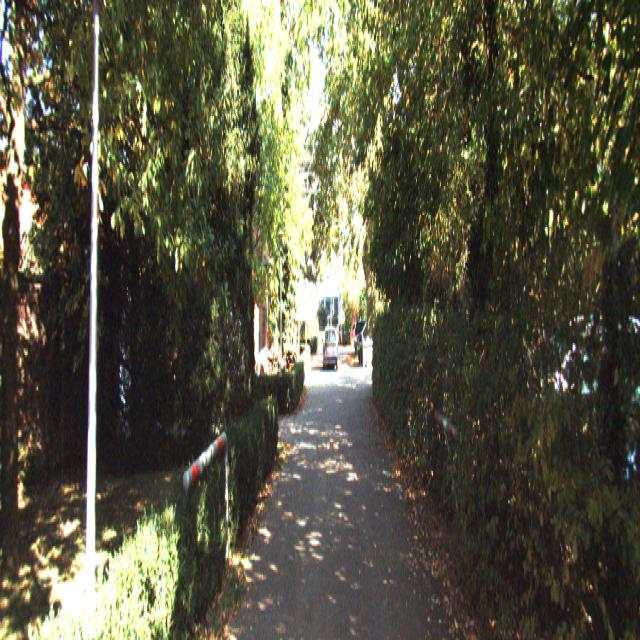Car: (324, 324, 338, 372)
